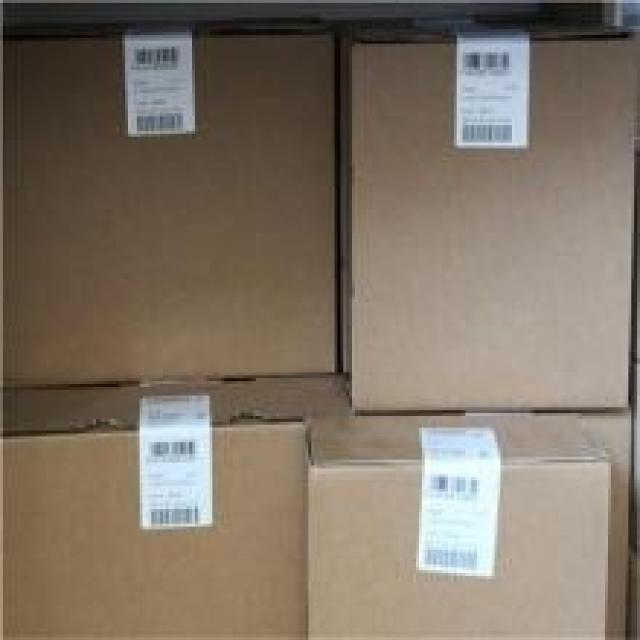Carton: (0, 35, 637, 637), (6, 35, 337, 384)
